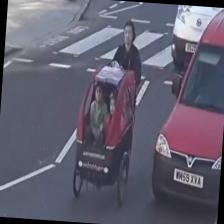person: (104, 18, 144, 156), (86, 81, 108, 147), (103, 88, 117, 145)
